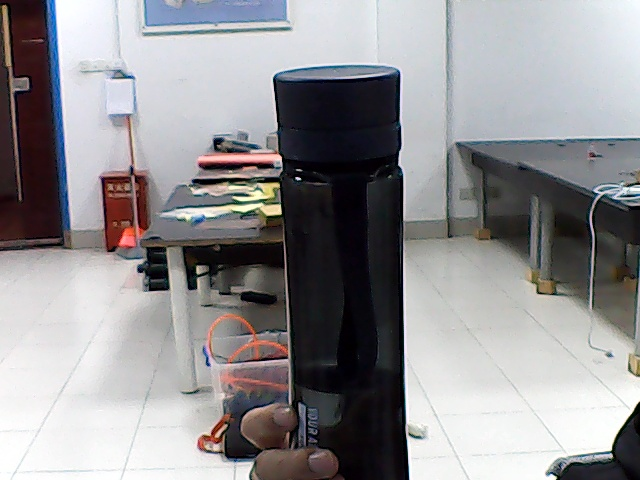cup: (296, 114, 393, 414)
